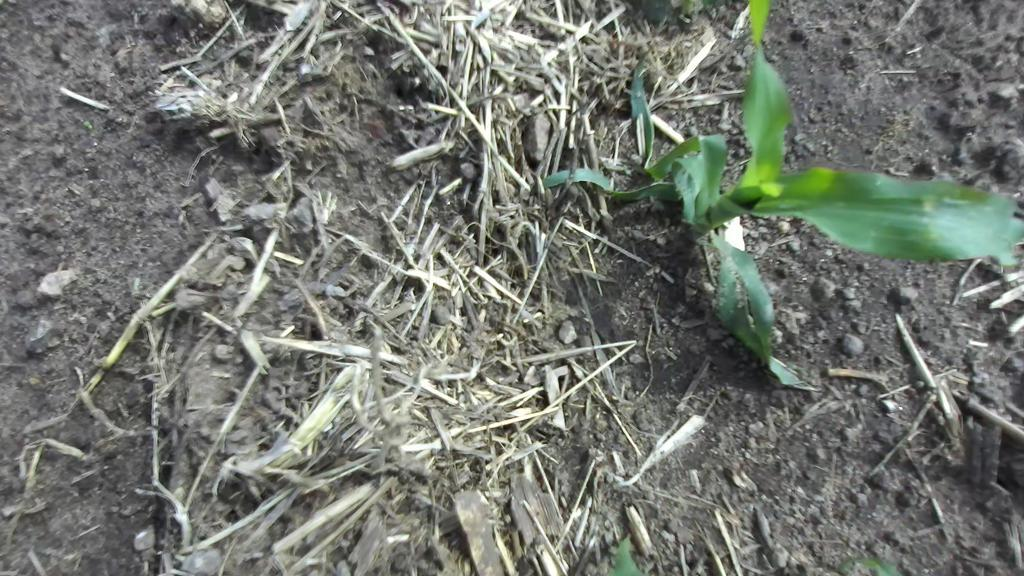BroWeed: (880, 393, 902, 416), (81, 118, 93, 131)
